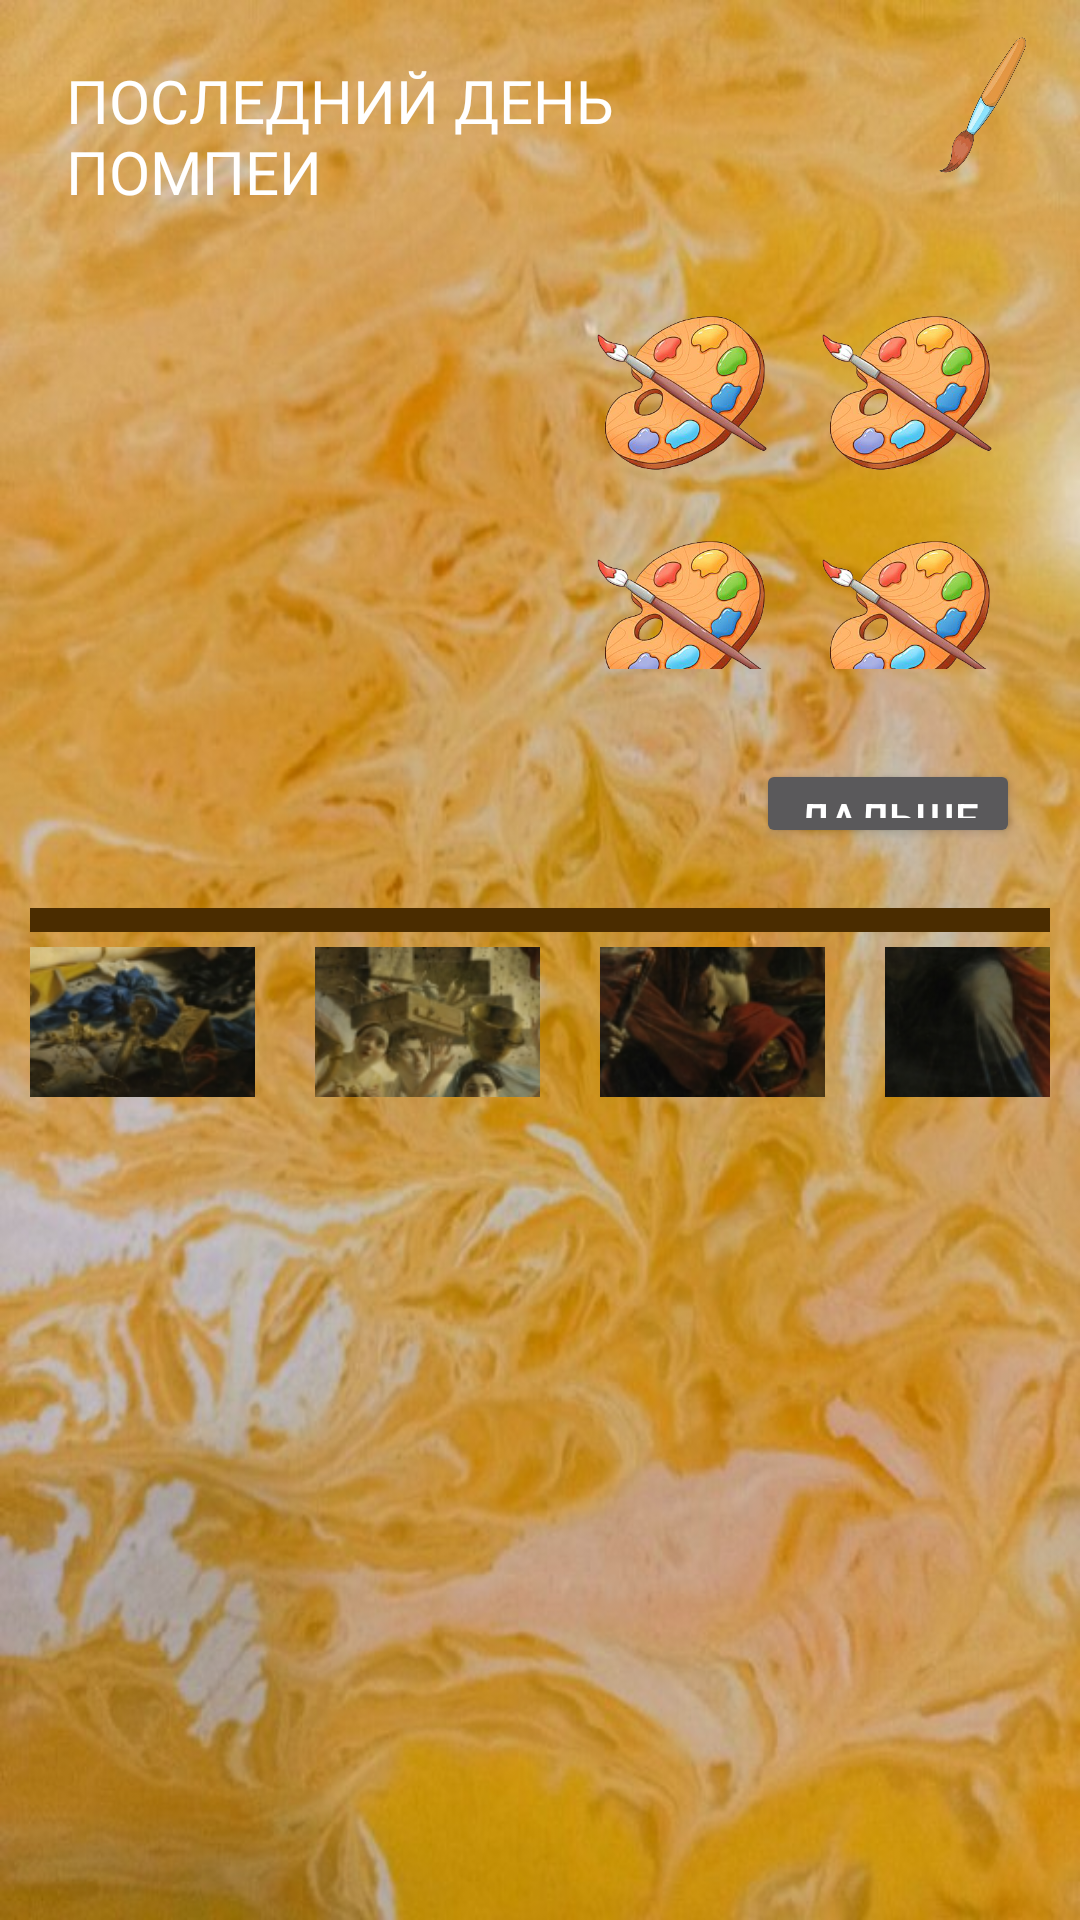

Locate icon controls on the screen. Image size 1080w x 1920h, boxes as bbox(x1, y1, x2, y2).
brush: bbox(915, 30, 1050, 180)
